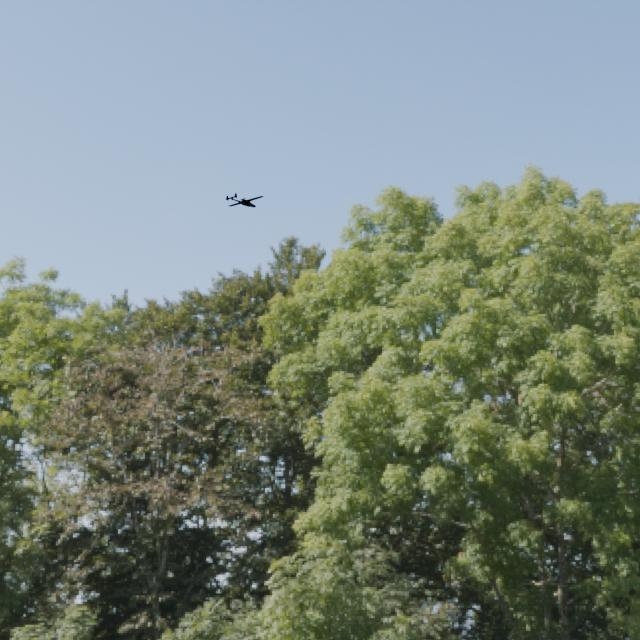Airaplan: (226, 193, 264, 208)
